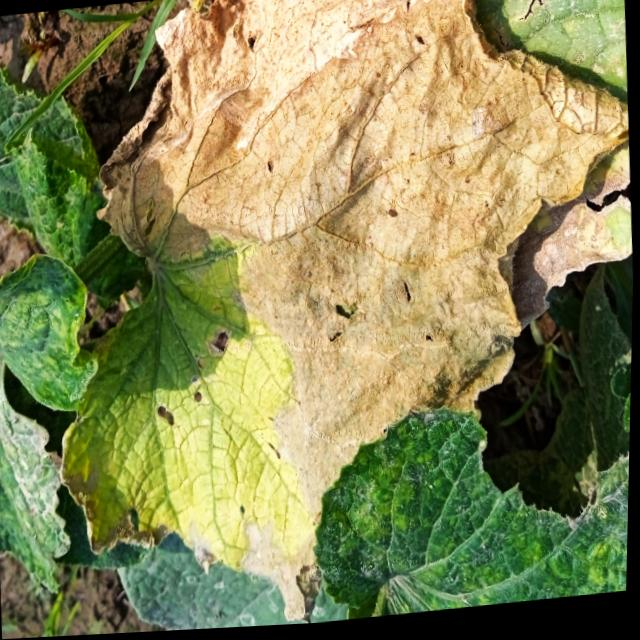Gummy-Stem-Blight: (61, 0, 628, 624)
